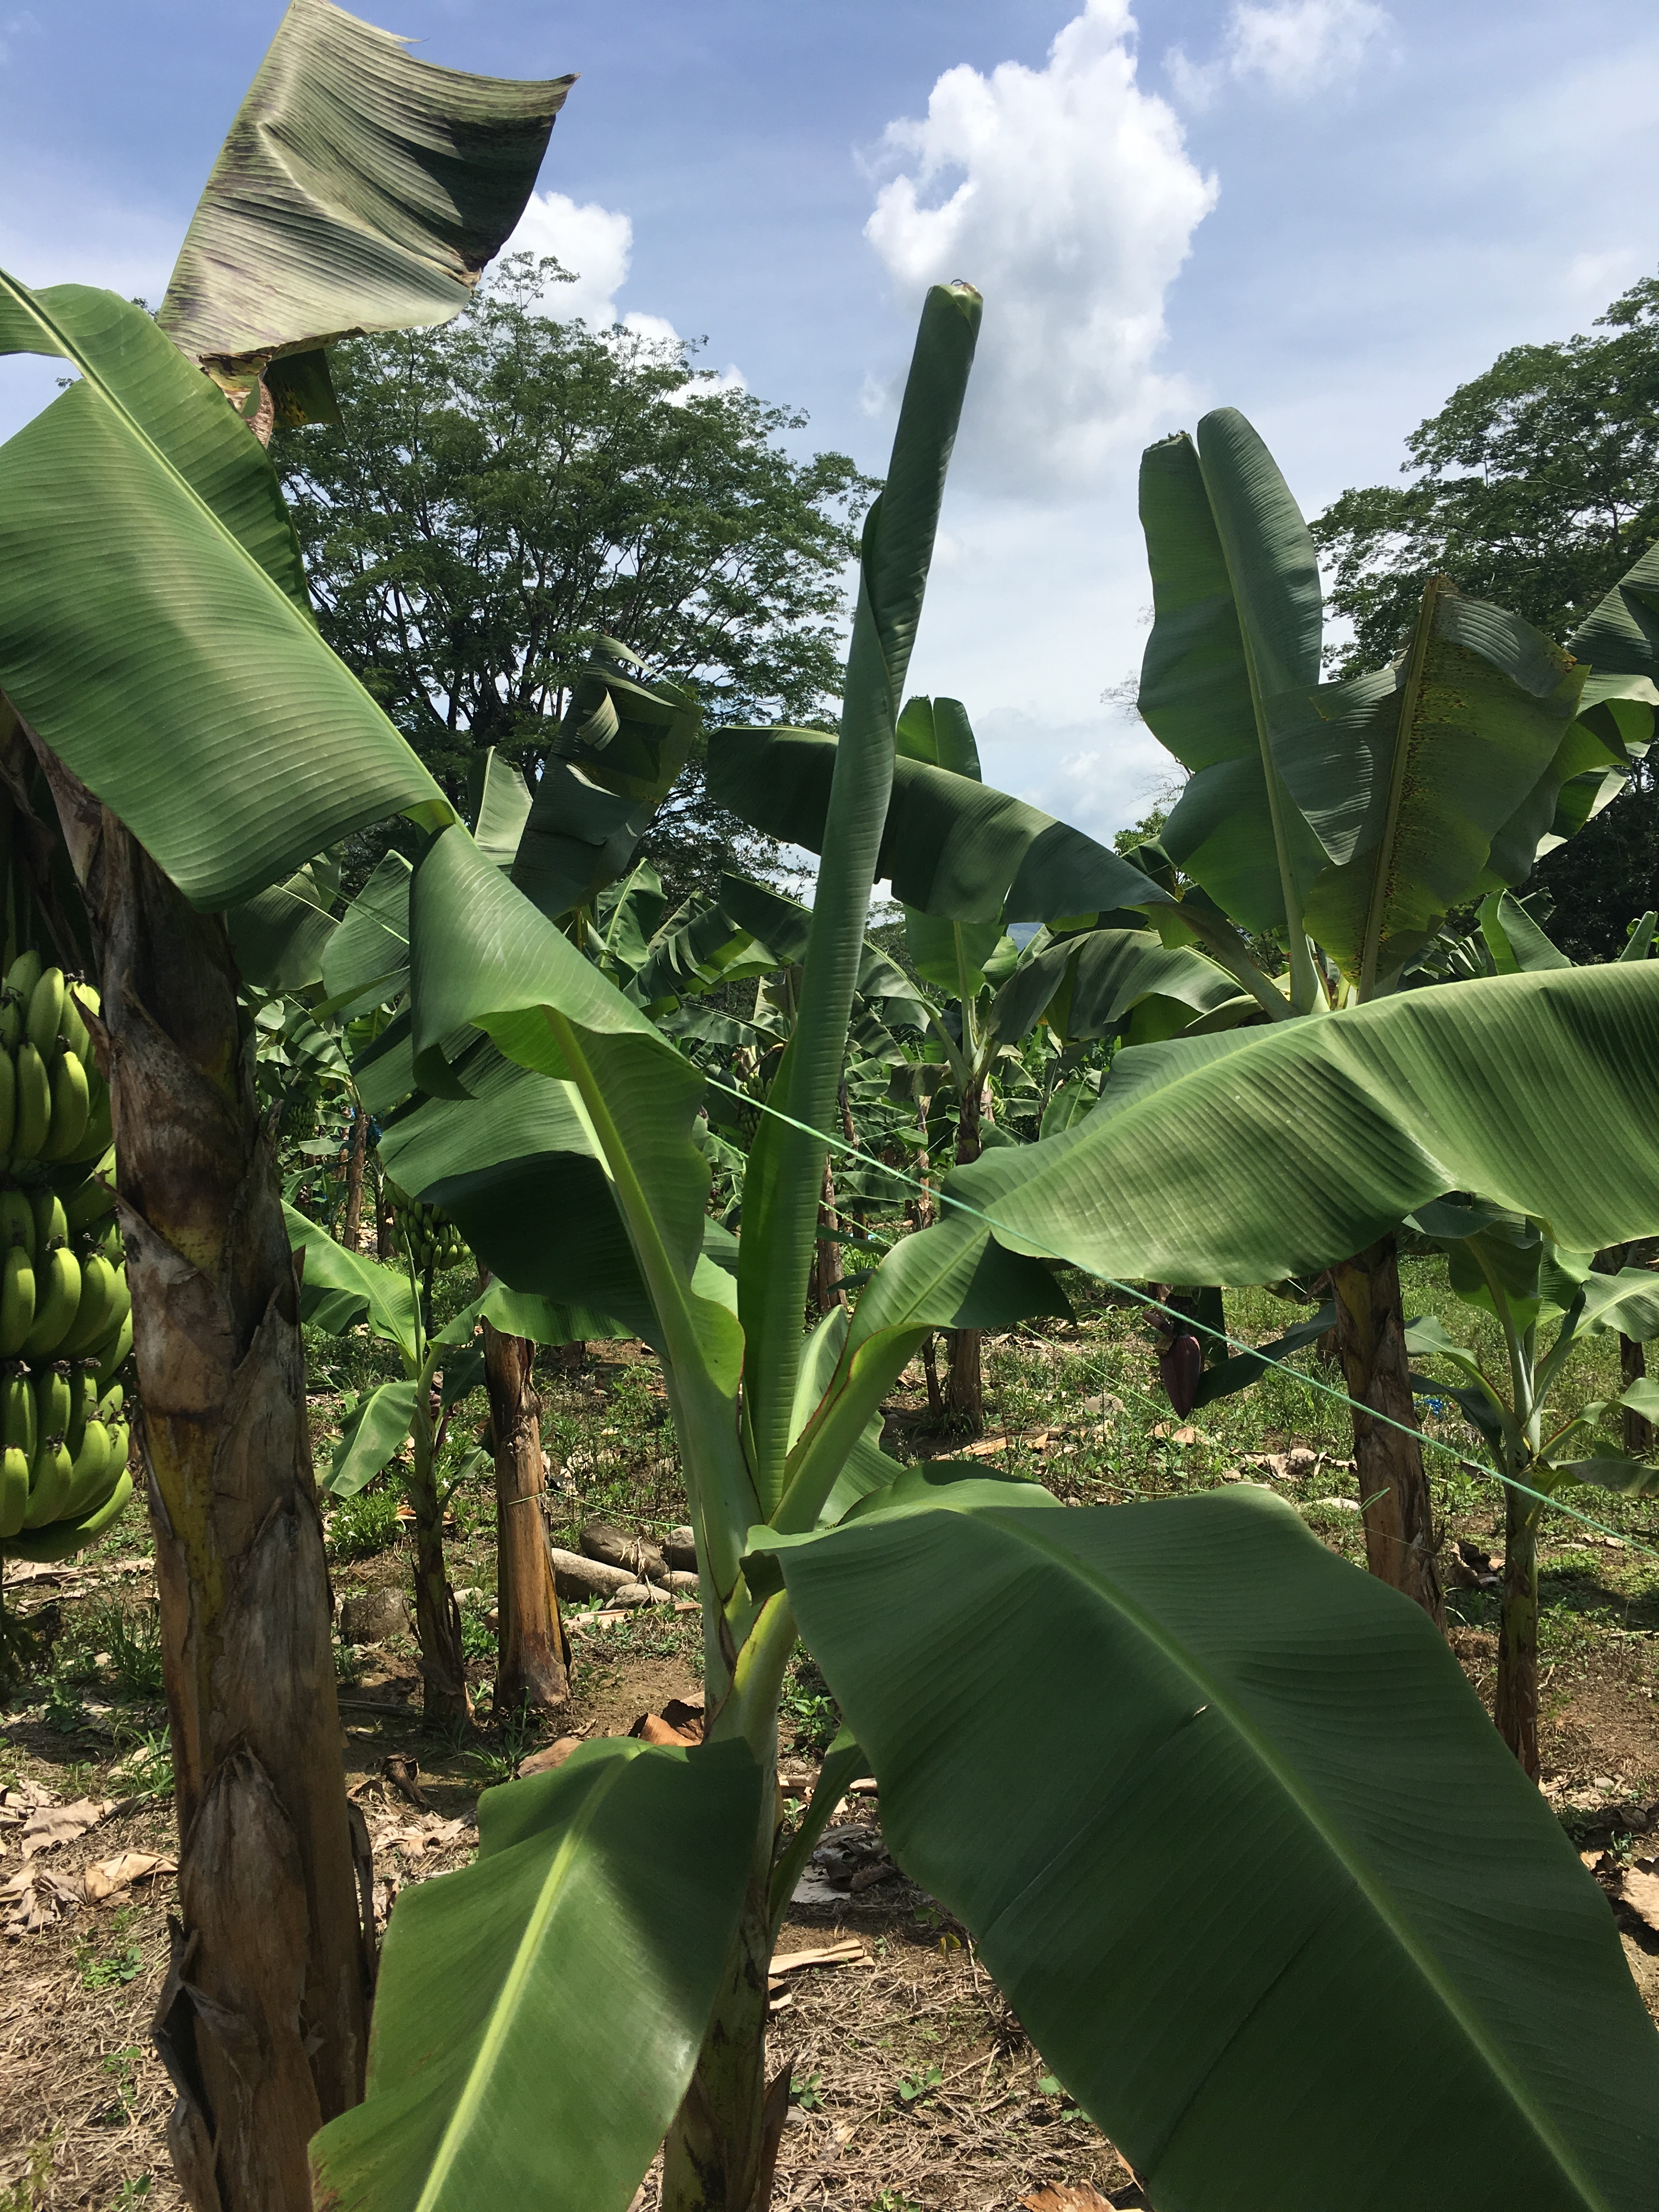candleleafs: (758, 282, 985, 1350)
